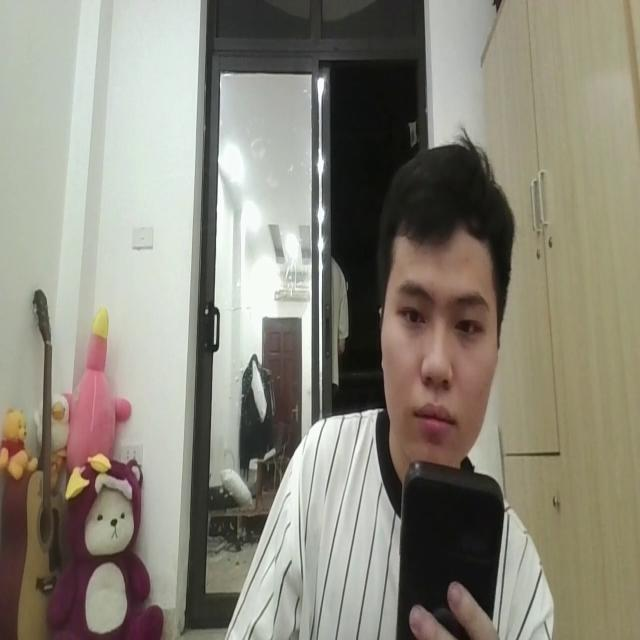phone: (394, 457, 506, 640)
student: (226, 135, 554, 640)
